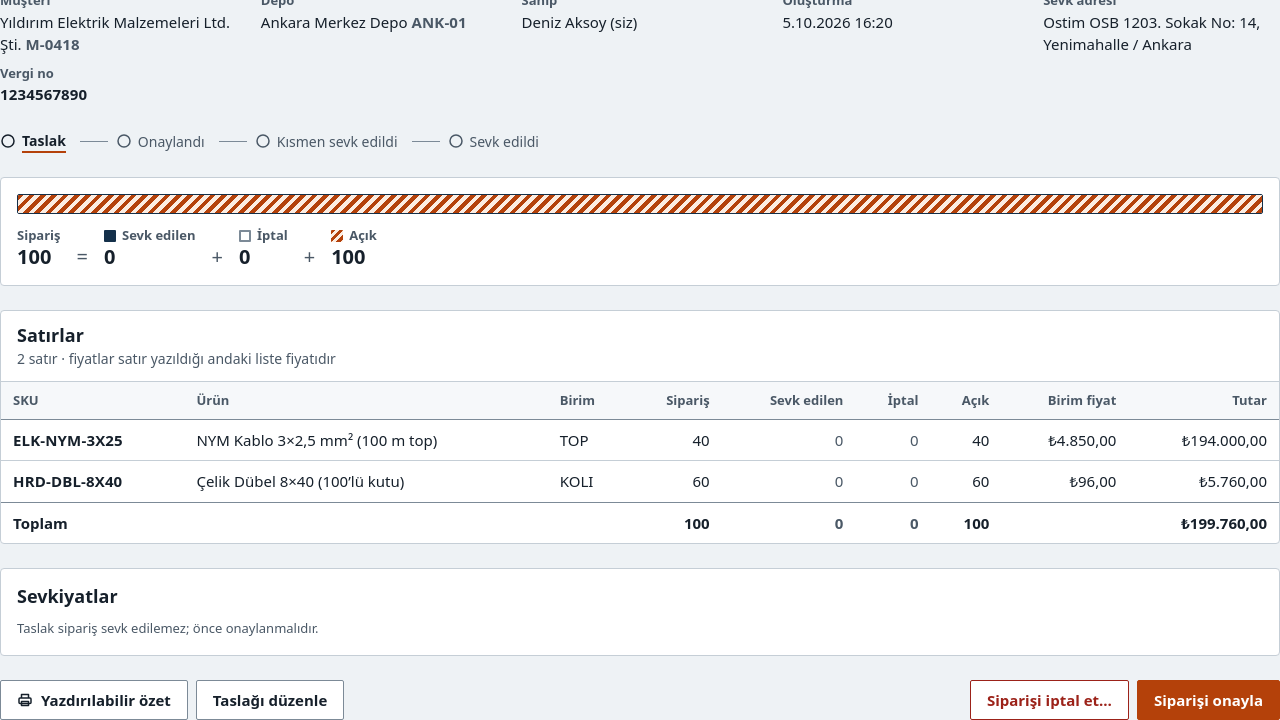
Test: satış siparişi belgesi › 409 insufficient_available yanıtını satırlara eşler: istenen ve kullanılabilir miktar ilgili satırda görünür
This screenshot has width=1280, height=720.
(page scrolled)
Step 1. Click the button "Siparişi onayla" → (1208,700), box x1=1137 y1=680 x2=1279 y2=719
(page scrolled)
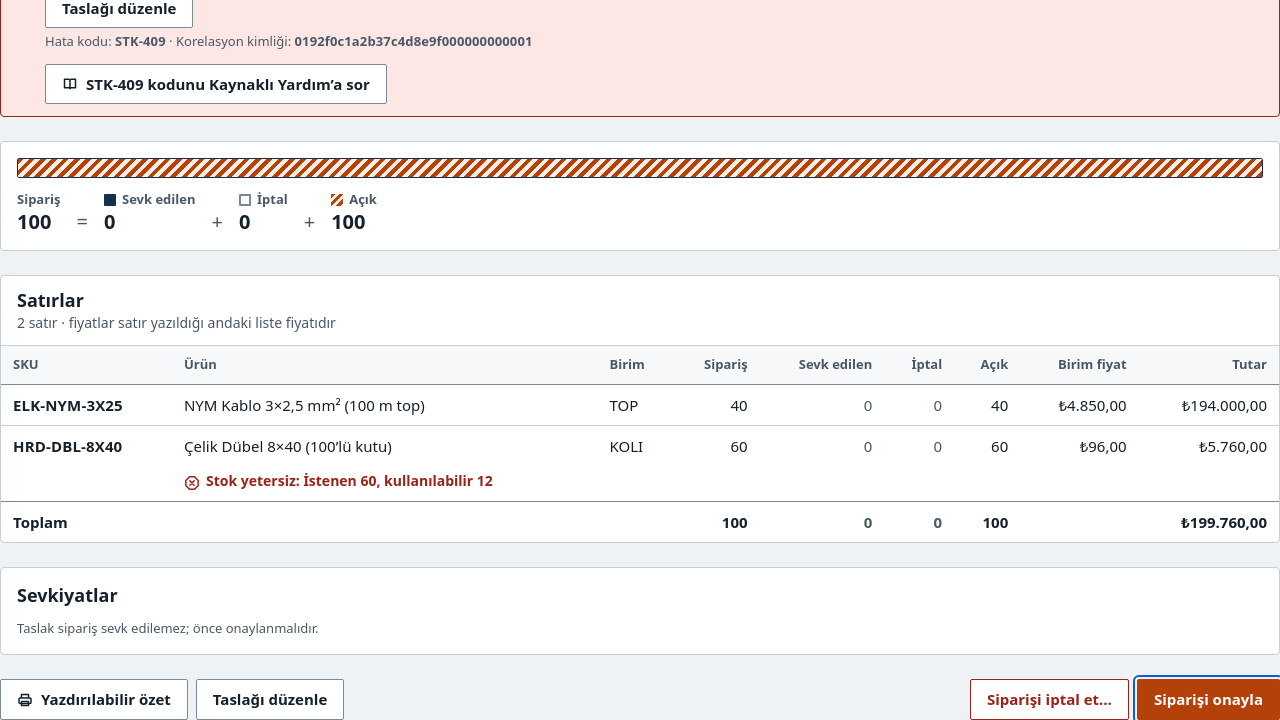
Now the message shows "STK-409", box x1=115 y1=32 x2=166 y2=50
Now the message shows "0192f0c1a2b37c4d8e9f000000000001", box x1=294 y1=32 x2=532 y2=50
Now the text "Stok yetersiz: İstenen 60, kullanılabilir 12" is shown, box x1=184 y1=471 x2=493 y2=491
